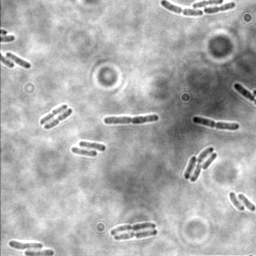Dividing: (160, 0, 204, 19), (192, 116, 239, 132), (102, 113, 159, 126), (110, 221, 157, 236), (42, 108, 73, 130), (112, 228, 158, 242), (39, 103, 68, 125), (204, 1, 237, 16), (192, 0, 223, 11)
Microcolony: (183, 146, 218, 183)
Rod: (5, 52, 32, 70), (233, 82, 254, 102), (8, 239, 43, 250), (70, 145, 97, 158), (238, 192, 255, 212), (78, 141, 107, 152), (228, 191, 243, 212), (23, 248, 56, 255)
